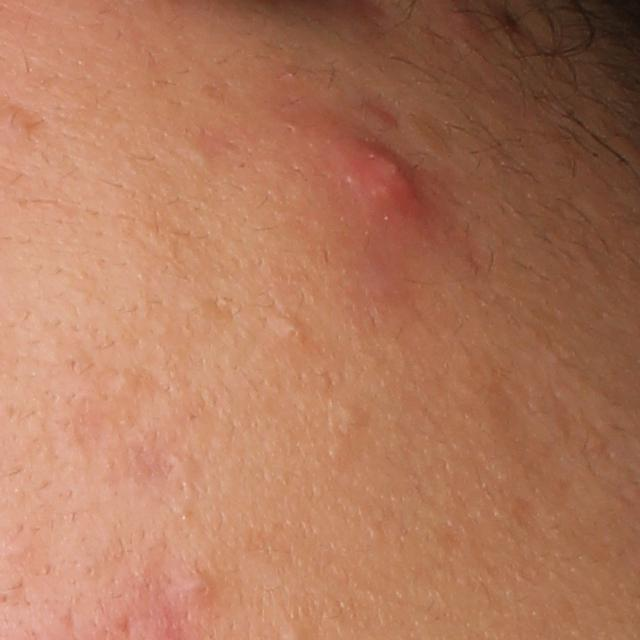comedo: (277, 318, 301, 345)
papule: (337, 135, 430, 221)
